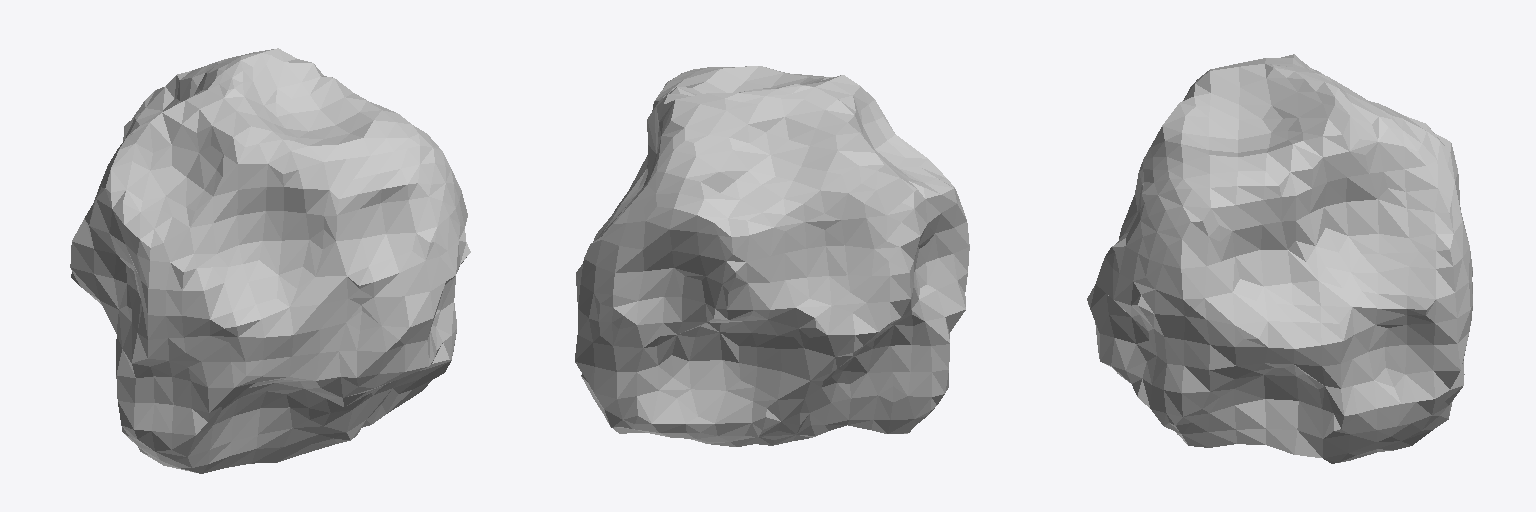
File: Asteroid03.obj
3 renders of one model, left to right at view 1: azimuth 30°, elevation 25°; view 2: azimuth 150°, elevation 25°; view 3: azimuth 270°, elevation 25°, orthographic.
Parts seen in each view (by area): view 1: Asteroid03_Low; view 2: Asteroid03_Low; view 3: Asteroid03_Low.
Part boxes in pixels (x1,y1,x2,y2): Asteroid03_Low: (70, 48, 470, 473); Asteroid03_Low: (575, 66, 969, 446); Asteroid03_Low: (1087, 54, 1472, 463).
Size of the model in its own units: 5.3 by 5.47 by 5.39.